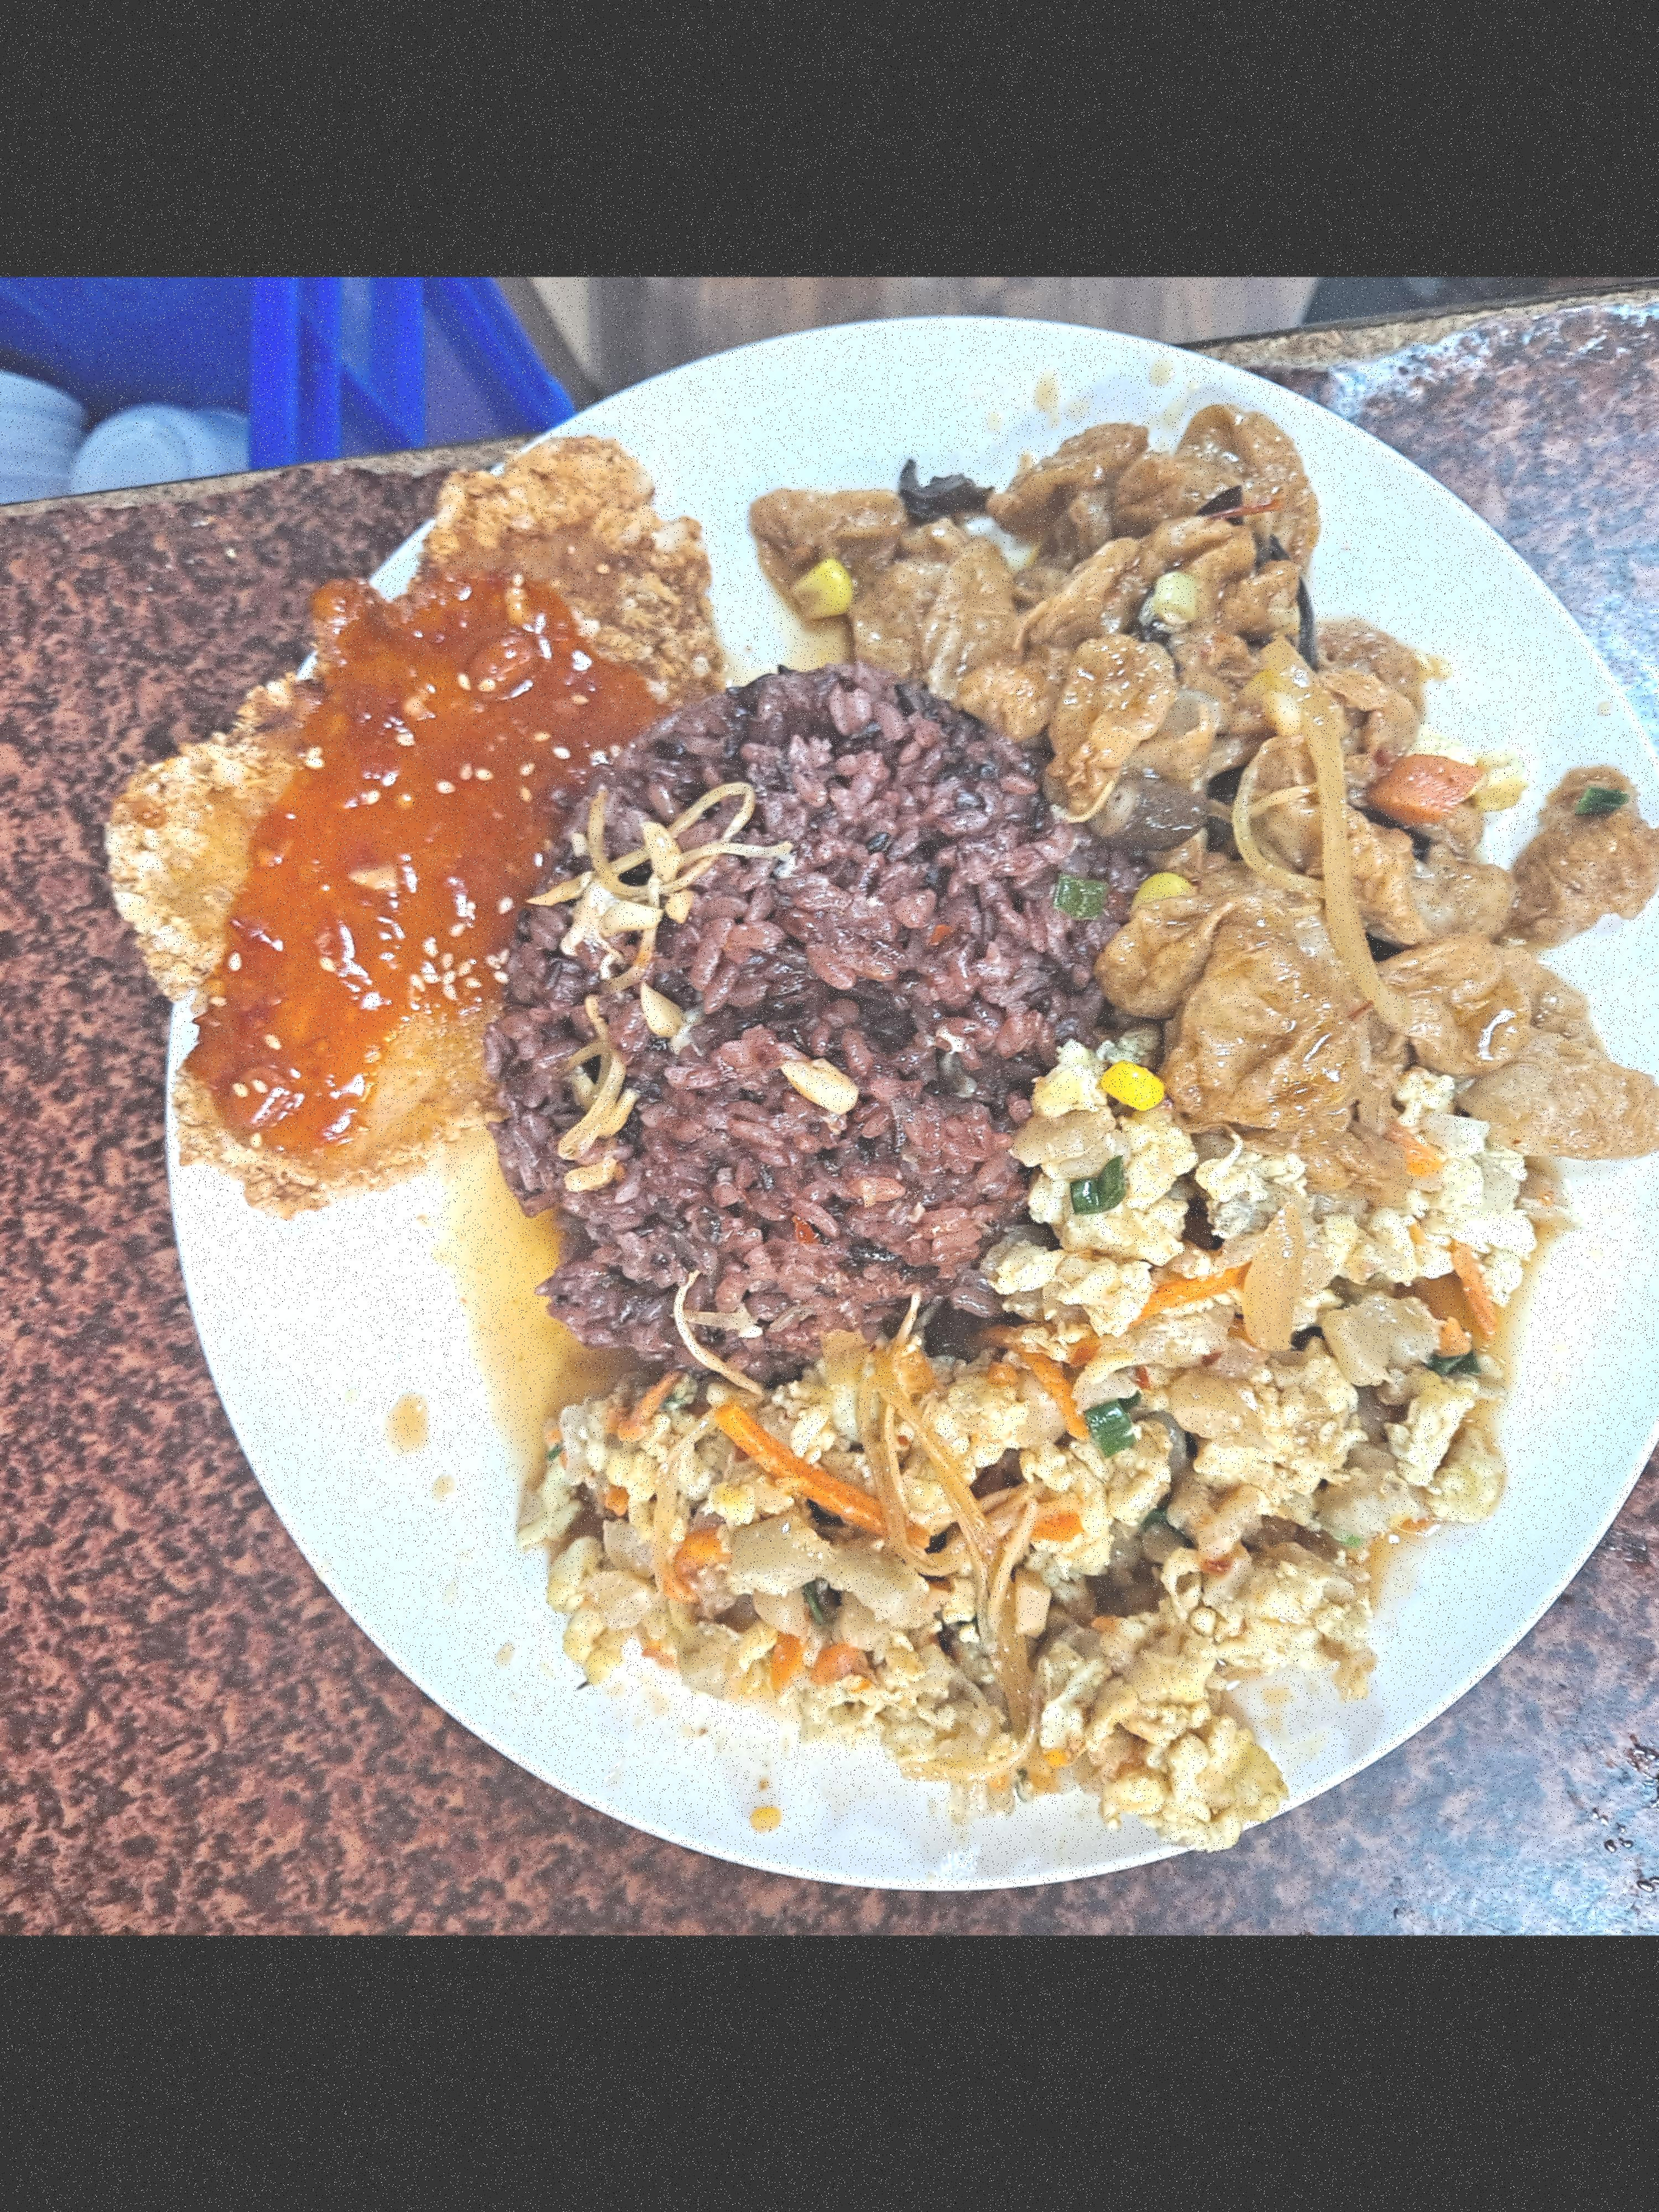plate: (0, 296, 573, 1109)
purple rice: (152, 498, 403, 819)
side dish: (136, 796, 573, 1054), (380, 343, 573, 747)
sweet and spicy chicken steak: (0, 378, 223, 752)
